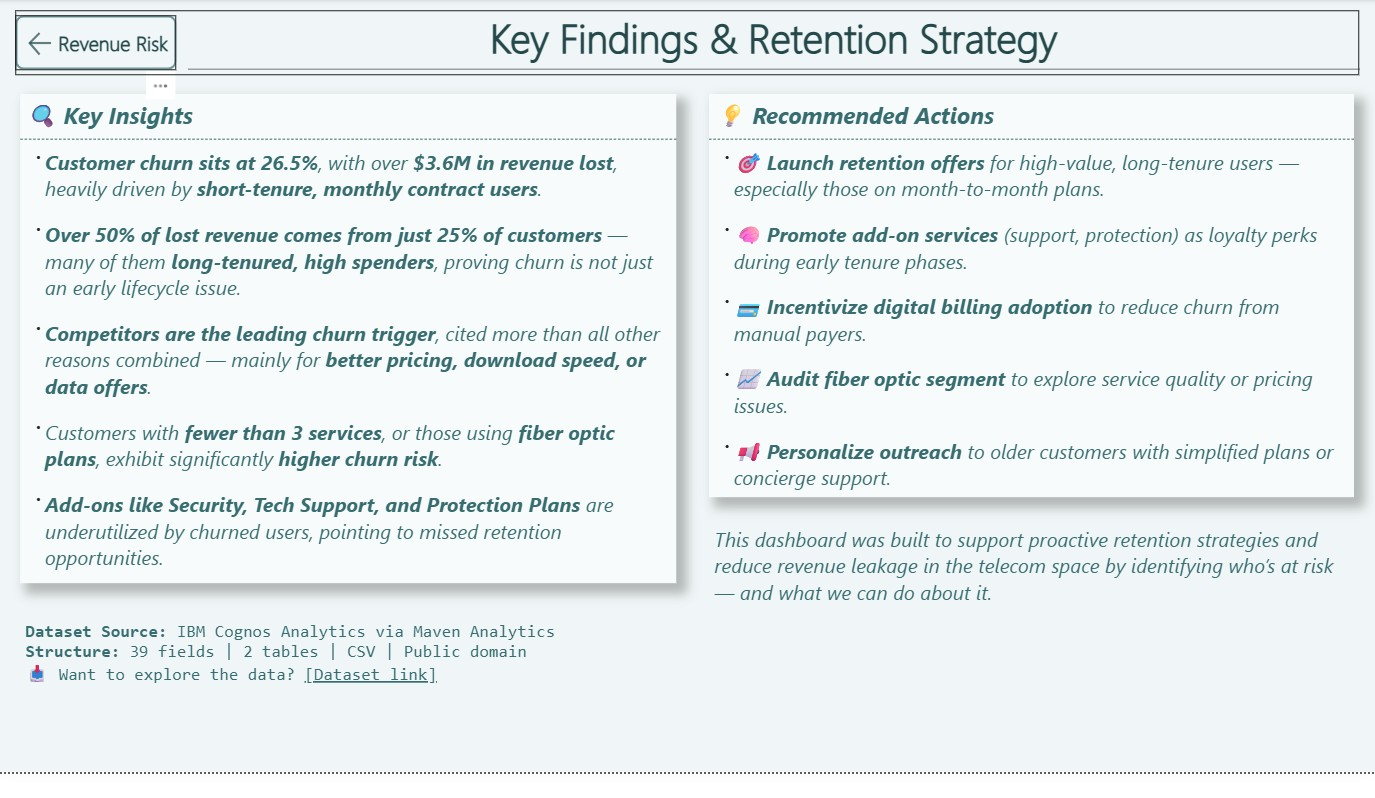

The page's visual inventory and layout, read from the dashboard file:
{"tool":"powerbi","page":{"name":"Key Findings","canvas":[1280,720],"ordinal":5},"visuals":[{"type":"textbox","title":"Key Findings & Retention Strategy","box":[175.4,10,1090,60.8],"z":0,"group":"g1"},{"type":"textbox","title":"Dataset Source","box":[20,575,610.5,75],"z":500},{"type":"textbox","title":"This dashboard was built to support proactive retention strategies and reduce revenue leakage in the telecom space by identifying who’s at risk — and what we can do about it.","box":[660,490,600,80.3],"z":750},{"type":"actionButton","title":"Previous Page","box":[15,15,150,50.7],"z":1000,"group":"g1"},{"type":"textbox","title":"💡 Recommended Actions","box":[660,88,600,375],"z":1000},{"type":"textbox","title":"🔍 Key Insights","box":[20,88,610,455],"z":2000},{"type":"group","id":"g1","title":"Title","box":[15,10,1250.4,60.8],"z":3000}]}

Visuals, with their boxes on the page's 1280x720 design canvas (x1, y1, x2, y2). These are canvas units, not pixel positions in the 1375x798 screenshot, which may show the page scaled, cropped or inside an application window:
"Key Findings & Retention Strategy" textbox: detection(175, 10, 1265, 71)
"Dataset Source" textbox: detection(20, 575, 630, 650)
"This dashboard was built to support proactive retention strategies and reduce revenue leakage in the telecom space by identifying who’s at risk — and what we can do about it." textbox: detection(660, 490, 1260, 570)
"Previous Page" actionButton: detection(15, 15, 165, 66)
"💡 Recommended Actions" textbox: detection(660, 88, 1260, 463)
"🔍 Key Insights" textbox: detection(20, 88, 630, 543)
"Title" group: detection(15, 10, 1265, 71)
